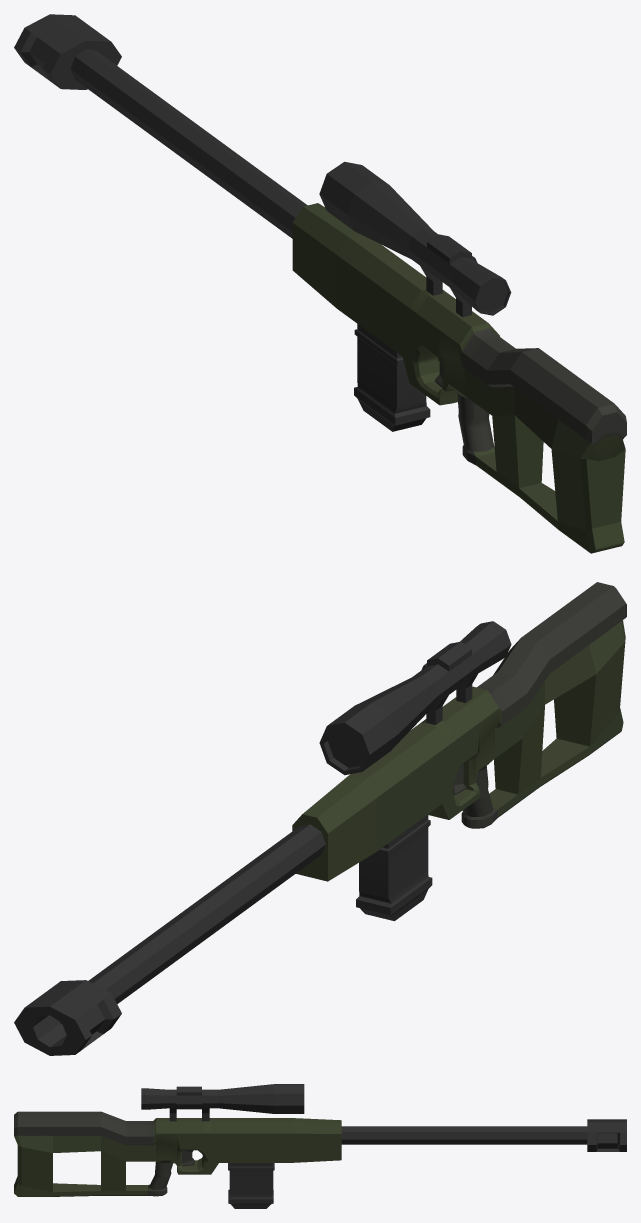
File: SniperV2.fbx
3 views of the same model, one above another, from view 1: azimuth 30°, elevation 25°; view 2: azimuth 150°, elevation 25°; view 3: azimuth 270°, elevation 25° (orthographic). The views are drawn at different scales.
Parts seen in each view (by area): view 1: pCylinder9, pCylinder12, pCylinder10, pCube6, pCylinder11; view 2: pCylinder9, pCylinder12, pCylinder10, pCylinder11, pCube6; view 3: pCylinder9, pCylinder10, pCylinder12, pCube6, pCylinder11.
Part boxes in pixels (x1=…): pCylinder9: x1=292, y1=203, x2=626, y2=553; pCylinder12: x1=319, y1=161, x2=511, y2=317; pCylinder10: x1=70, y1=49, x2=307, y2=238; pCube6: x1=354, y1=324, x2=430, y2=431; pCylinder11: x1=14, y1=14, x2=121, y2=89; pCylinder9: x1=292, y1=582, x2=626, y2=881; pCylinder12: x1=319, y1=621, x2=511, y2=775; pCylinder10: x1=88, y1=824, x2=325, y2=1003; pCylinder11: x1=14, y1=980, x2=121, y2=1055; pCube6: x1=356, y1=814, x2=432, y2=921; pCylinder9: x1=14, y1=1111, x2=341, y2=1196; pCylinder10: x1=341, y1=1126, x2=587, y2=1144; pCylinder12: x1=141, y1=1084, x2=304, y2=1121; pCube6: x1=228, y1=1163, x2=274, y2=1208; pCylinder11: x1=587, y1=1119, x2=626, y2=1151.
Bounding box in the file's own units: 0.9197 × 2.69 × 12.41.
2 materials, 1 textured.
